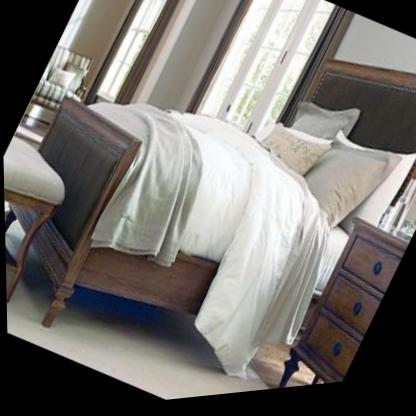Bed: (0, 0, 412, 416)
Nightstand: (275, 226, 410, 394)
